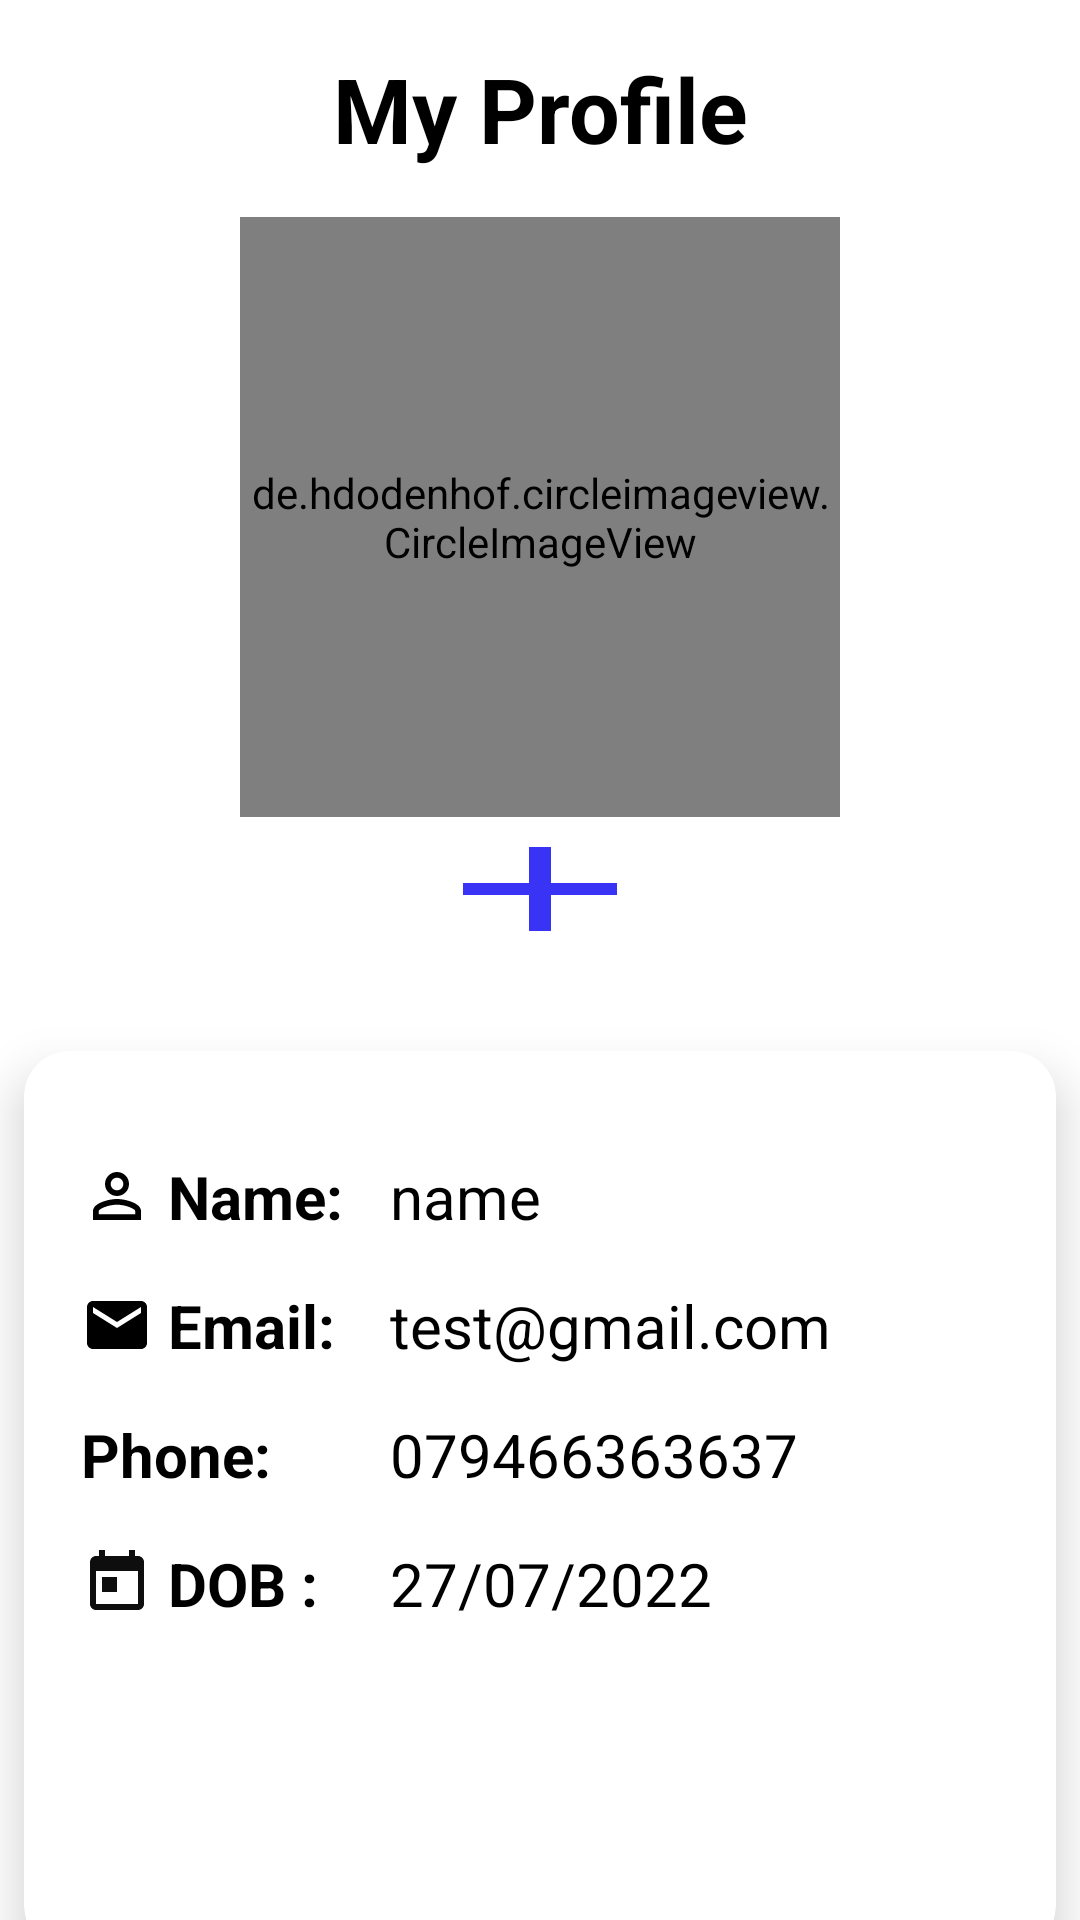

Where icons sit on this 1080*1920 app screen, as (x1, y1, x2, y2):
add: (463, 847, 617, 931)
